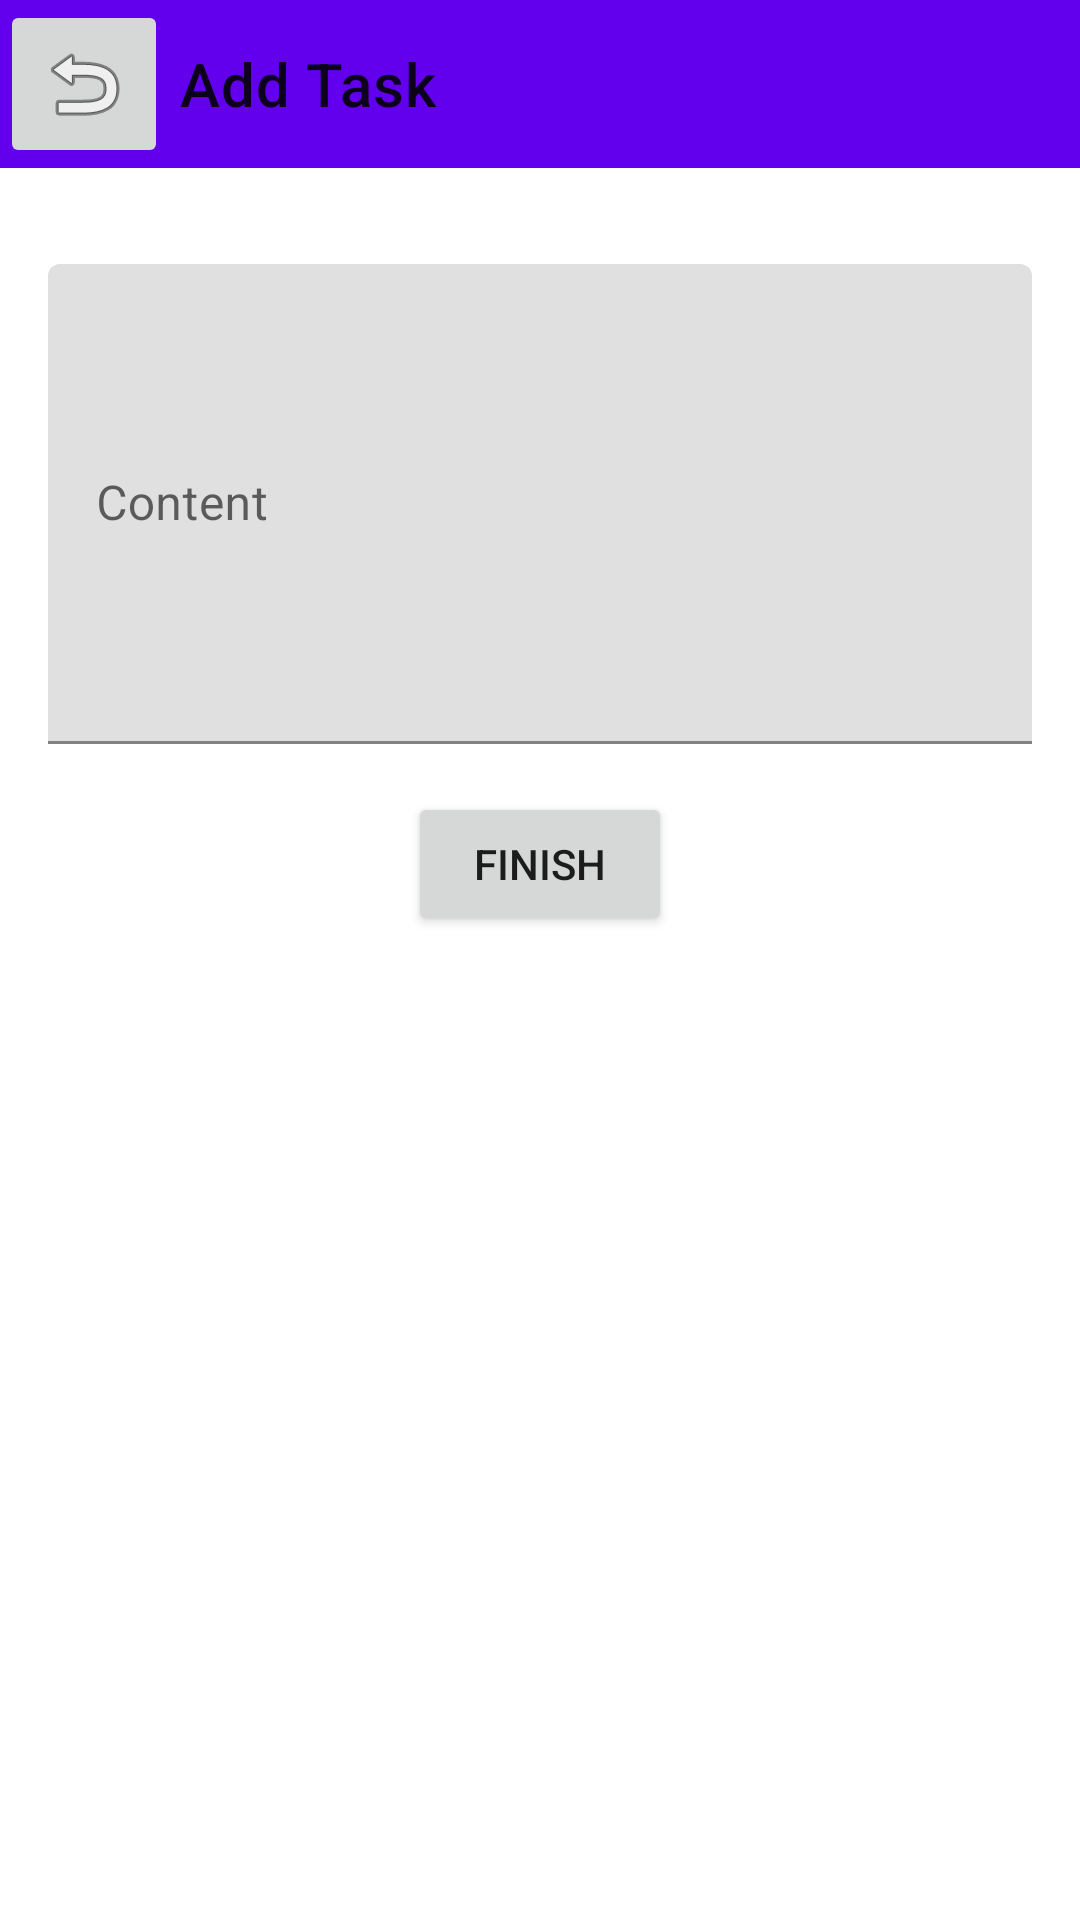

Icons on this 1080w x 1920h Android screen, each with the point to tap as (x=x, y=y):
revert: (x=84, y=84)
